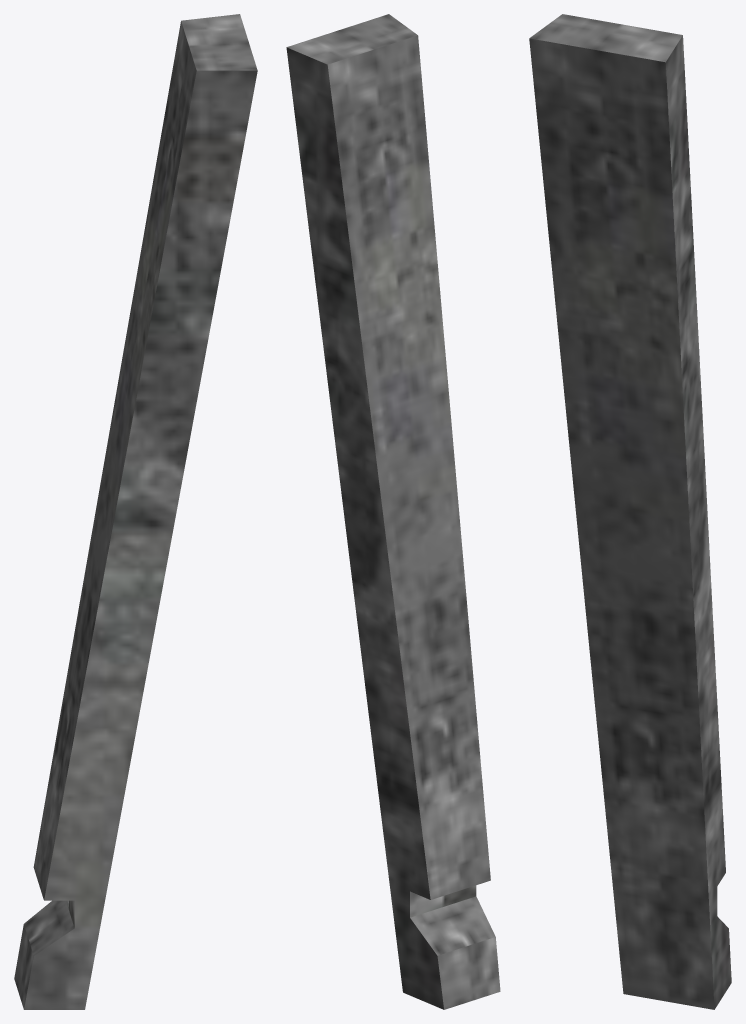
The model's file is original-29.obj.
3 views of the same model, side by side, from view 1: azimuth 30°, elevation 25°; view 2: azimuth 150°, elevation 25°; view 3: azimuth 270°, elevation 25° (orthographic). The views are drawn at different scales.
Visible parts, largest first — view 1: Group_53_23/Group_53/mesh88/mesh88-geometry#mesh88-geometry; view 2: Group_53_23/Group_53/mesh88/mesh88-geometry#mesh88-geometry; view 3: Group_53_23/Group_53/mesh88/mesh88-geometry#mesh88-geometry.
Boxes of the visible parts, x1,y1,x2,y2 form: Group_53_23/Group_53/mesh88/mesh88-geometry#mesh88-geometry: (14, 14, 257, 1009); Group_53_23/Group_53/mesh88/mesh88-geometry#mesh88-geometry: (286, 14, 500, 1009); Group_53_23/Group_53/mesh88/mesh88-geometry#mesh88-geometry: (529, 14, 731, 1009).
Bounding box in the file's own units: 0.2271 × 0.9253 × 0.1658.
